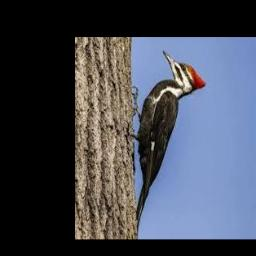Woodpecker: (131, 50, 206, 233)
